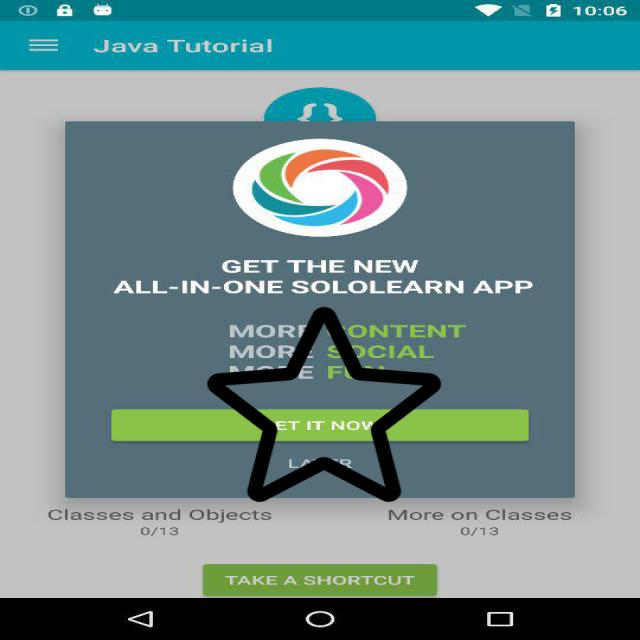forced continuity: (207, 303, 441, 506)
